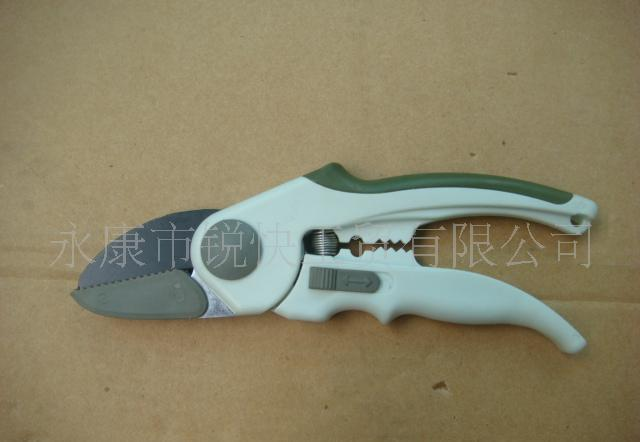scissor: (56, 118, 613, 386)
